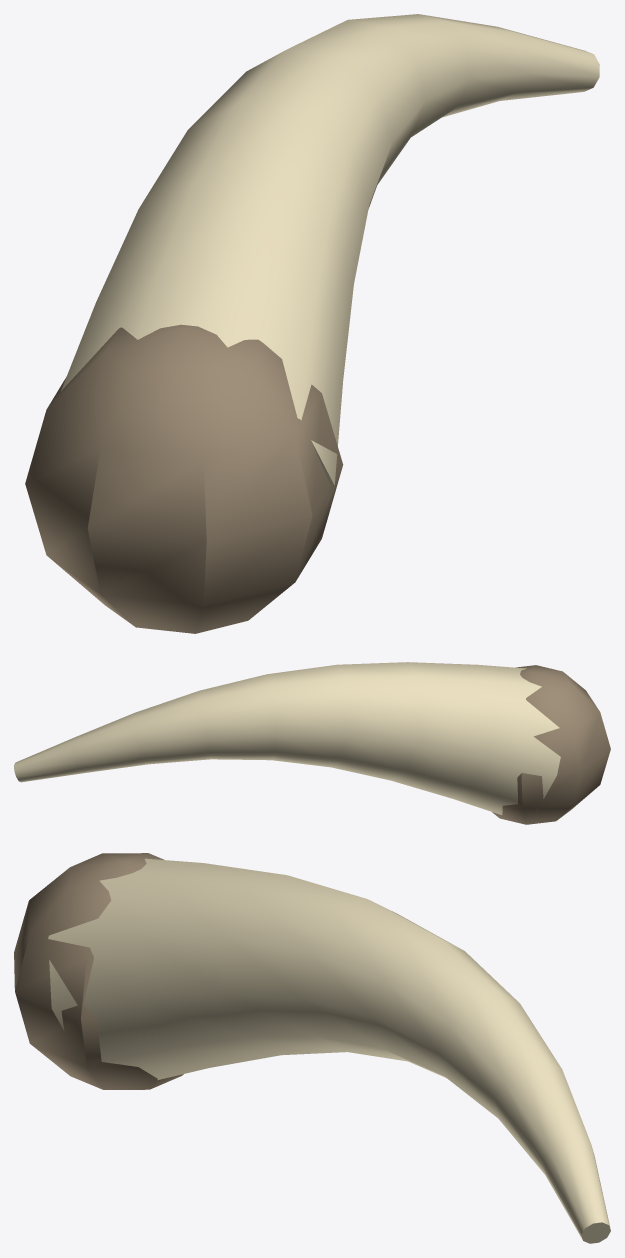
File: orc_tusk.glb
The picture shows the model from 3 angles, top to bottom: view 1: azimuth 30°, elevation 25°; view 2: azimuth 150°, elevation 25°; view 3: azimuth 270°, elevation 25°; orthographic projection. The views are drawn at different scales.
Parts seen in each view (by area): view 1: orc_tusk; view 2: orc_tusk; view 3: orc_tusk.
Boxes of the visible parts, x1,y1,x2,y2 form: orc_tusk: (25,14,599,633); orc_tusk: (14,662,610,824); orc_tusk: (14,853,610,1243).
Size of the model in its own units: 0.1322 by 0.0514 by 0.1069.
